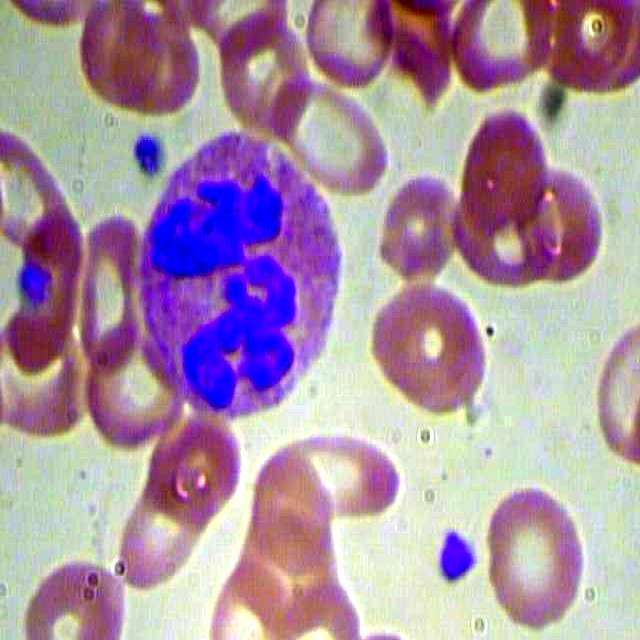Platelets: (421, 523, 482, 593), (121, 128, 166, 191), (16, 264, 53, 315)
RBC: (370, 269, 491, 423), (480, 476, 601, 629), (265, 68, 390, 201), (253, 428, 415, 517), (240, 438, 341, 562), (85, 344, 182, 463), (221, 25, 316, 144), (376, 165, 466, 275), (459, 105, 549, 215), (75, 214, 139, 366), (72, 1, 157, 106)
WBC: (141, 129, 338, 416)
